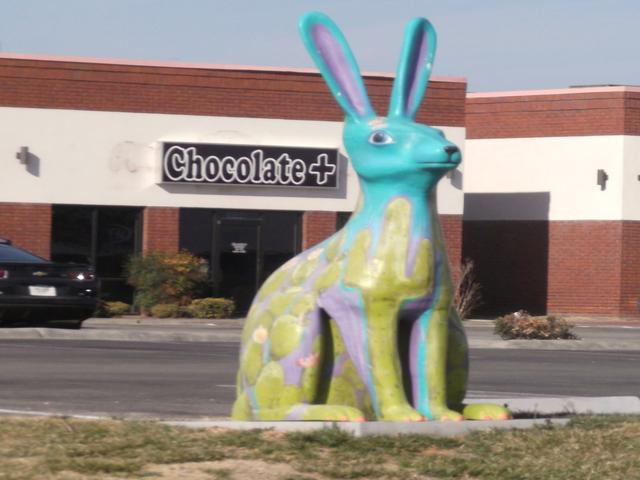kangaroo: (207, 14, 504, 427)
